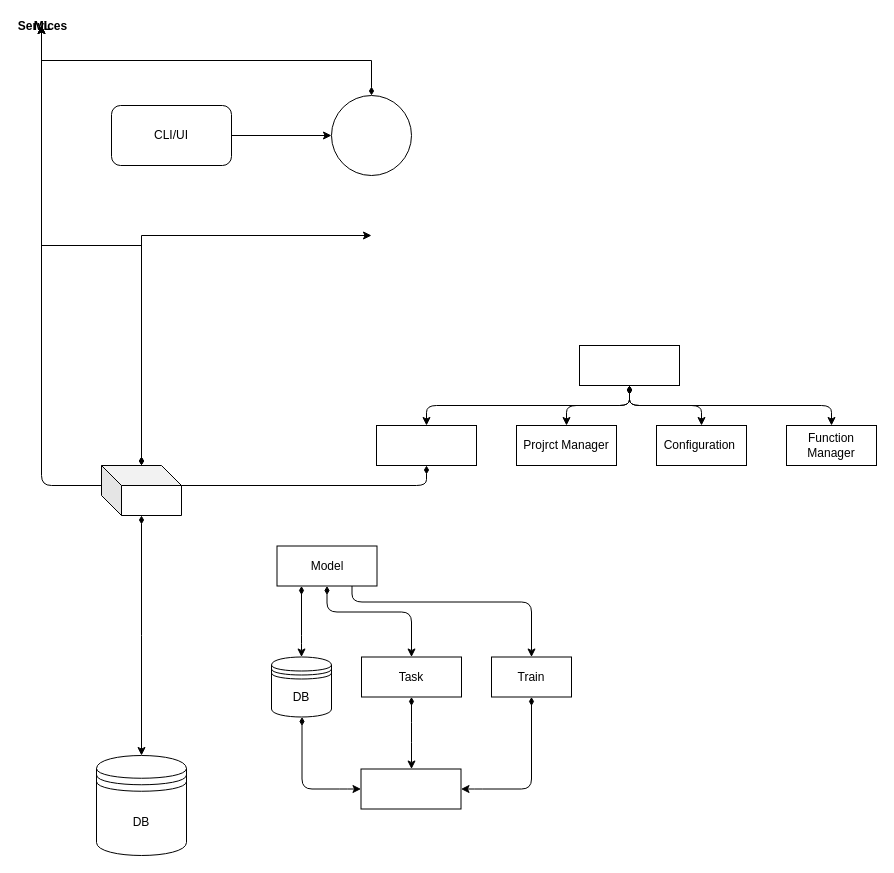
Some shapes in this 894 by 873 pixel diagram are drawn without their labels. The box of each missing label's shape, as (x1, y1, x2, y2) in pixels:
DB Parser: (100, 464, 182, 516)
End: (360, 768, 461, 809)
Scope Manager: (376, 424, 476, 466)
Tarantula-Main: (578, 344, 680, 386)
UI-Broker: (330, 94, 412, 176)
